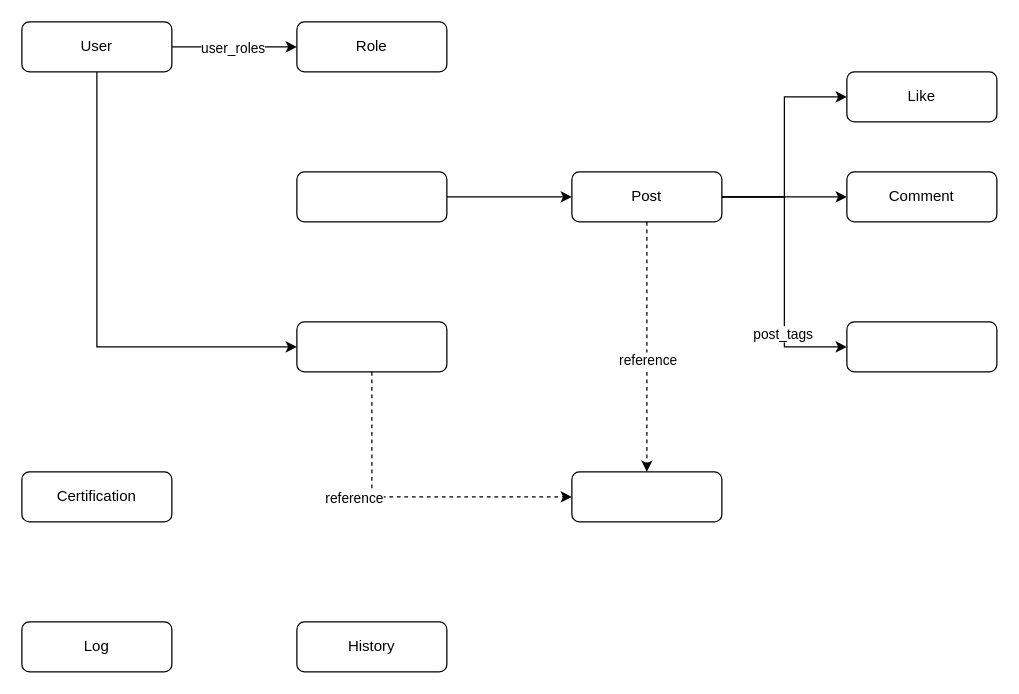
Some shapes in this 1019 by 694 pixel diagram are drawn without their labels. Each missing label, with the centre of its shape:
Attachment: (646,496)
Category: (371,196)
Notice: (371,346)
Tag: (921,346)
